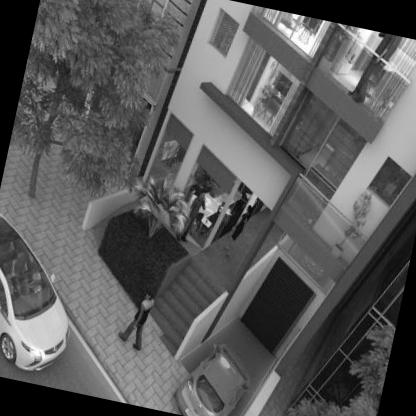car: (1, 202, 89, 389), (157, 326, 295, 416)
